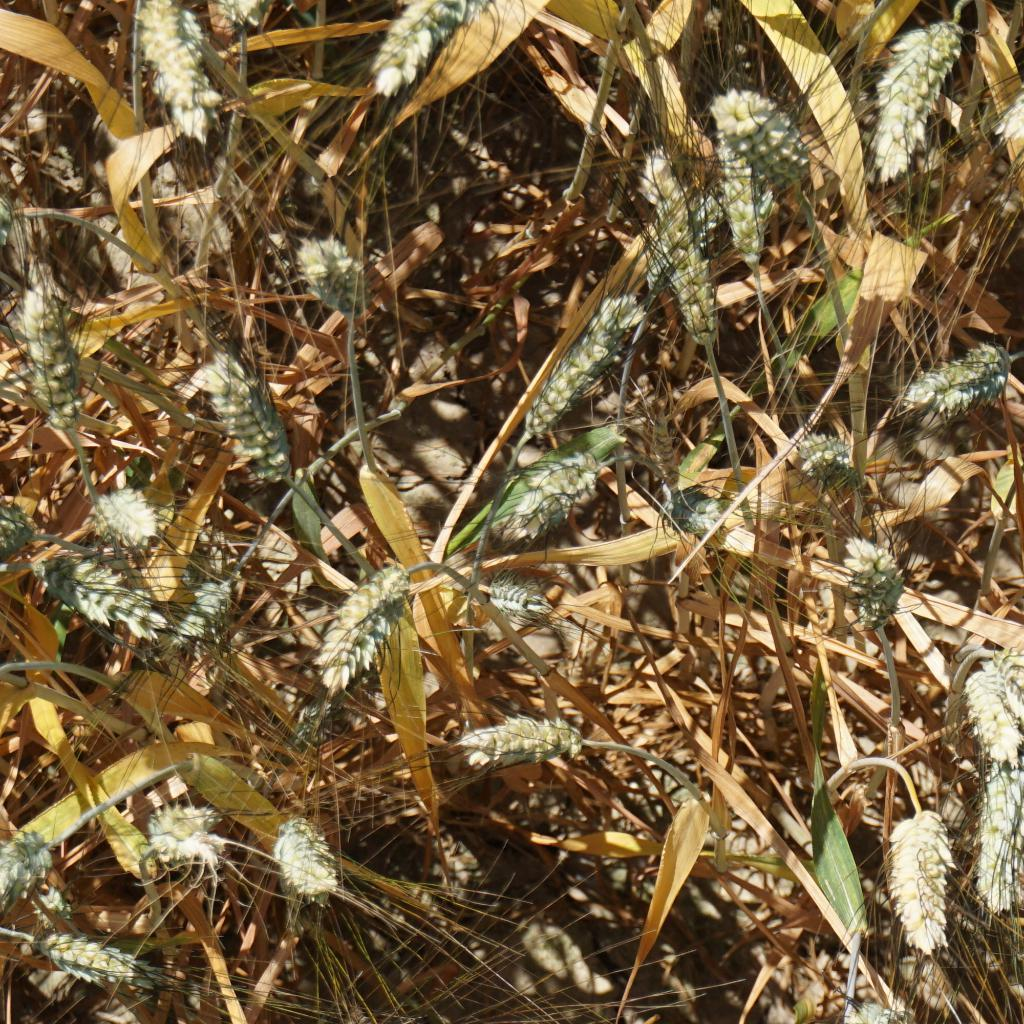0-0: (637, 152, 716, 352), (311, 547, 419, 693), (527, 285, 622, 449), (854, 22, 967, 159), (367, 0, 500, 104), (716, 84, 815, 209), (887, 801, 962, 957), (13, 271, 86, 429), (139, 1, 215, 141), (208, 361, 296, 479), (826, 528, 920, 637), (701, 161, 785, 279), (33, 559, 152, 641), (897, 336, 1010, 417), (508, 456, 610, 545), (456, 708, 591, 772), (287, 231, 367, 322), (979, 756, 1024, 909), (148, 796, 227, 879), (647, 470, 738, 542), (0, 823, 40, 982), (271, 816, 339, 908), (950, 662, 1015, 756), (640, 187, 706, 279), (35, 935, 154, 985), (478, 558, 571, 620), (89, 489, 169, 555), (796, 427, 867, 494), (182, 573, 238, 640), (994, 648, 1024, 762), (215, 0, 289, 36), (1004, 37, 1024, 153), (0, 493, 25, 570), (830, 997, 898, 1024)
